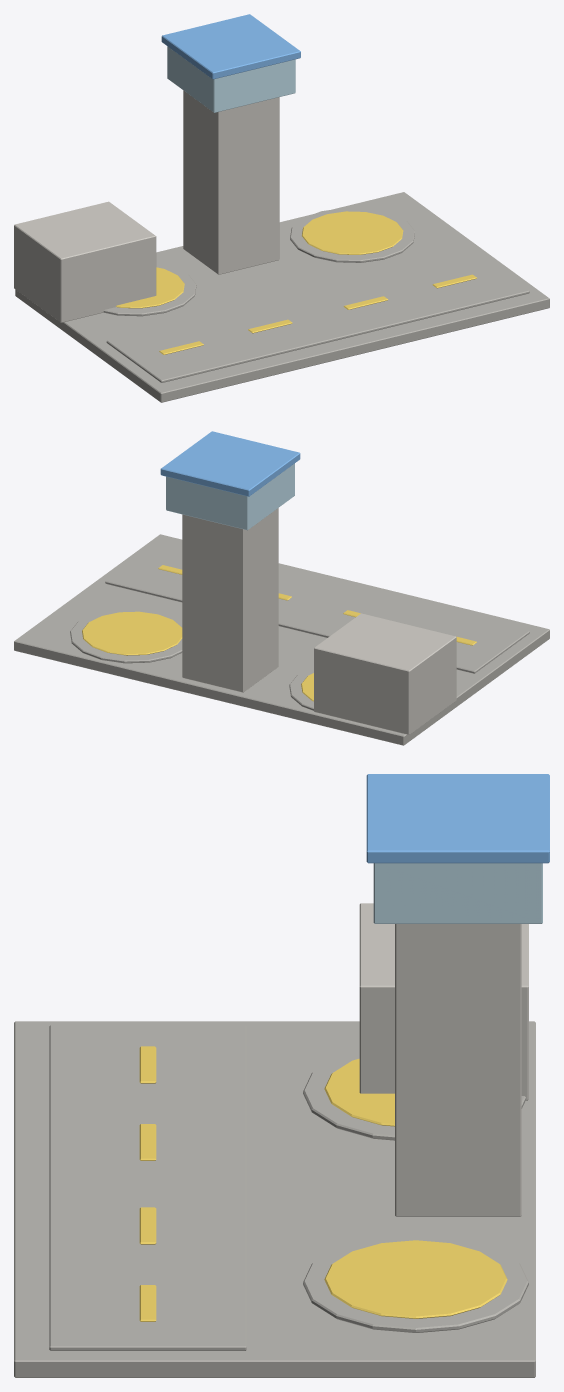
File: airfield.glb
3 views of the same model, one above another, from view 1: azimuth 30°, elevation 25°; view 2: azimuth 150°, elevation 25°; view 3: azimuth 270°, elevation 25° (orthographic). The views are drawn at different scales.
Parts seen in each view (by area): view 1: airfield; view 2: airfield; view 3: airfield.
Boxes of the visible parts, box(x1,y1,x2,y2) form: airfield: box(14, 14, 549, 402); airfield: box(14, 431, 549, 745); airfield: box(14, 774, 549, 1377).
Bounding box in the file's own units: 5.75 × 3.1 × 3.8.
